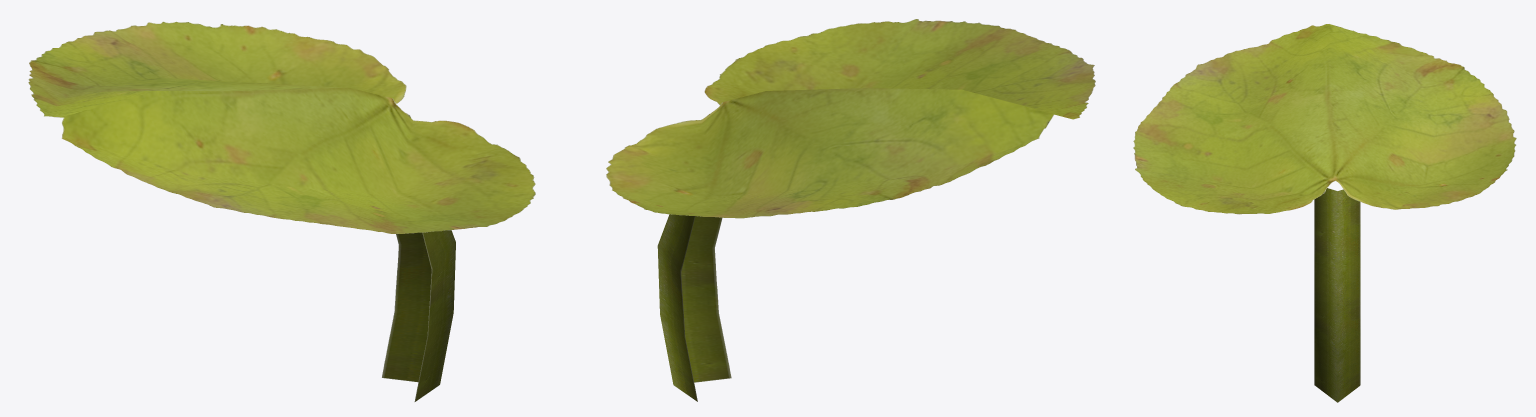
Rendered from Round1.fbx.
3 renders of one model, left to right at view 1: azimuth 30°, elevation 25°; view 2: azimuth 150°, elevation 25°; view 3: azimuth 270°, elevation 25°, orthographic. The views are drawn at different scales.
Parts seen in each view (by area): view 1: Round1; view 2: Round1; view 3: Round1.
Part boxes in pixels (box(x1,y1,x2,y2)): Round1: box(28, 21, 535, 401); Round1: box(606, 19, 1095, 401); Round1: box(1133, 24, 1516, 402).
Size of the model in its own units: 0.4698 by 0.381 by 0.5339.
